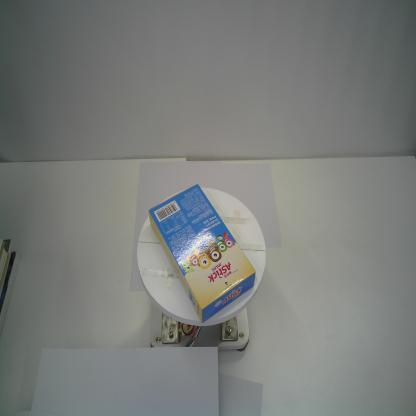Dessert: (148, 182, 256, 324)
